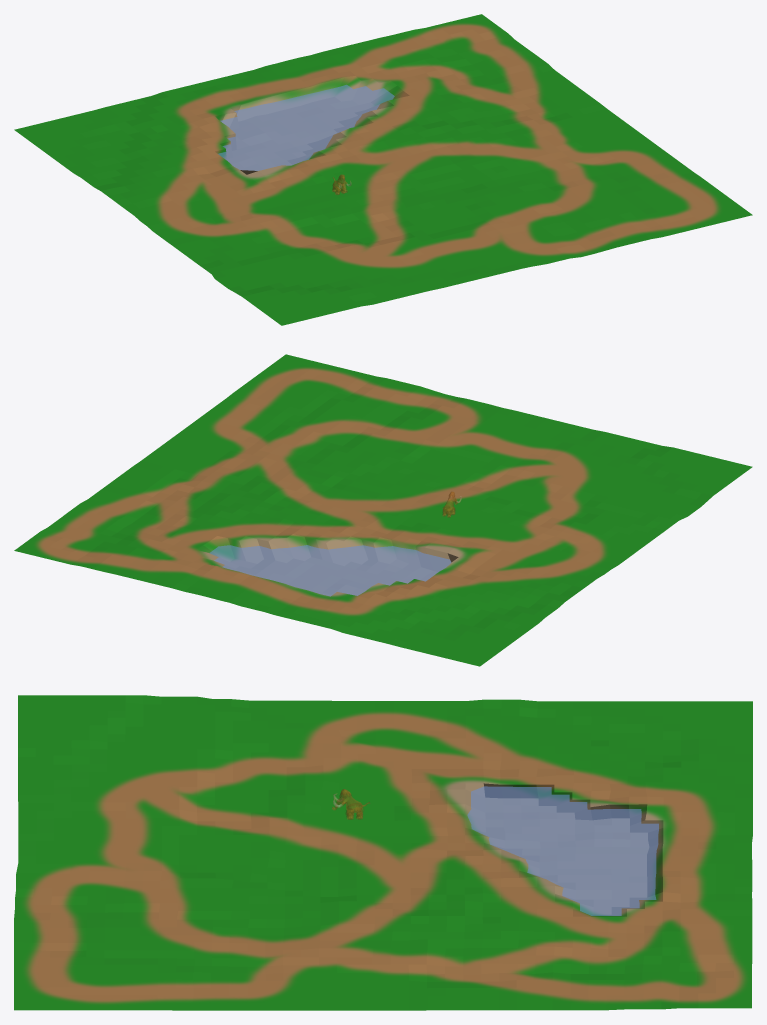
Rendered from zoo_terrain.glb.
3 views of the same model, one above another, from view 1: azimuth 30°, elevation 25°; view 2: azimuth 150°, elevation 25°; view 3: azimuth 270°, elevation 25° (orthographic). The views are drawn at different scales.
Parts seen in each view (by area): view 1: Plane, Plane.001; view 2: Plane, Plane.001; view 3: Plane, Plane.001, Mamoth.
Part boxes in pixels (x1,y1,x2,y2): Plane: (14, 14, 752, 325); Plane.001: (218, 85, 394, 170); Plane: (14, 354, 752, 666); Plane.001: (210, 545, 451, 596); Plane: (14, 695, 752, 1010); Plane.001: (467, 786, 658, 915); Mamoth: (332, 789, 369, 819).
Bounding box in the file's own units: 200 × 13.63 × 200.
Materials: 12 (11 with a texture image).
